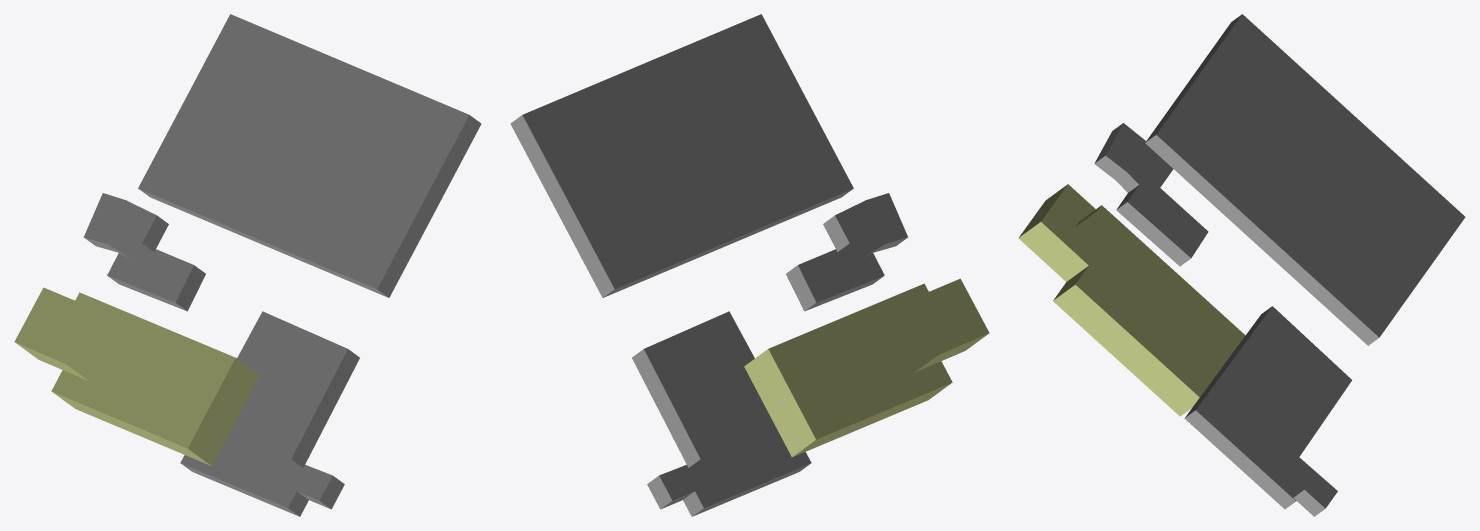
3 renders of one model, left to right at view 1: azimuth 30°, elevation 25°; view 2: azimuth 150°, elevation 25°; view 3: azimuth 330°, elevation 25°, orthographic. The views are drawn at different scales.
Parts seen in each view (by area): view 1: 0_1_0_0_0_1_3_2; view 2: 0_1_0_0_0_1_3_2; view 3: 0_1_0_0_0_1_3_2.
Boxes of the visible parts, bbox=[...] form: 0_1_0_0_0_1_3_2: bbox=[14, 14, 481, 516]; 0_1_0_0_0_1_3_2: bbox=[510, 14, 989, 516]; 0_1_0_0_0_1_3_2: bbox=[1018, 14, 1465, 516].
Bounding box in the file's own units: 65.12 × 69.51 × 6.
